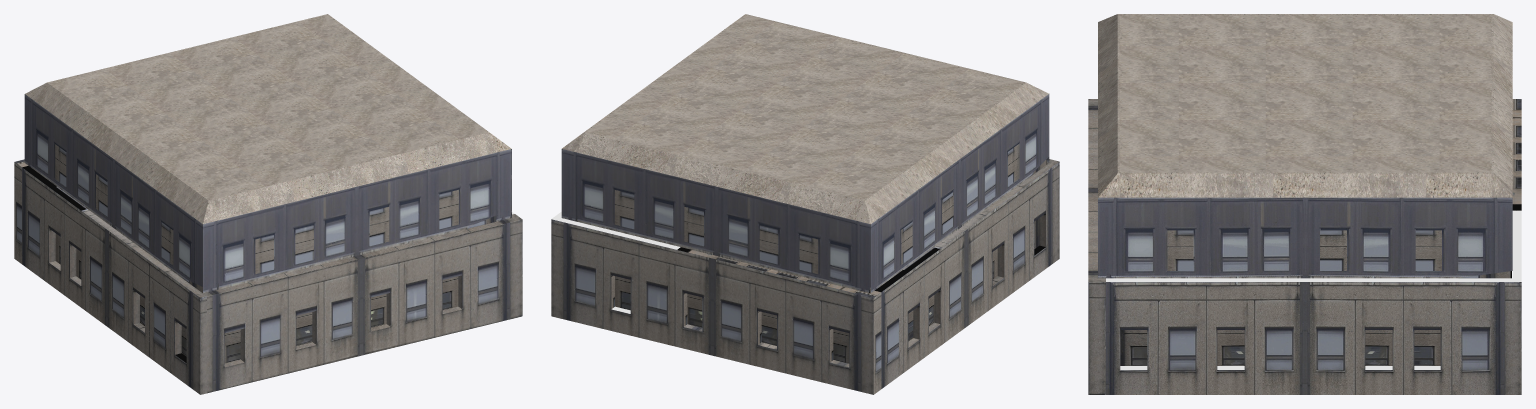
File: BagSS01top_100.fbx
The picture shows the model from 3 angles, left to right: view 1: azimuth 30°, elevation 25°; view 2: azimuth 150°, elevation 25°; view 3: azimuth 270°, elevation 25°; orthographic projection. The views are drawn at different scales.
Parts seen in each view (by area): view 1: topC100, topB100, topBox100; view 2: topC100, topB100, topBox100; view 3: topC100, topB100, topBox100.
Boxes of the visible parts, <box> form: topC100: <box>14,94,522,394</box>; topB100: <box>25,14,511,223</box>; topBox100: <box>55,144,496,363</box>; topC100: <box>551,94,1059,394</box>; topB100: <box>562,14,1048,224</box>; topBox100: <box>575,144,1046,363</box>; topC100: <box>1088,99,1521,394</box>; topB100: <box>1098,14,1512,197</box>; topBox100: <box>1120,230,1511,365</box>.
Bounding box in the file's own units: 17.55 × 9.37 × 17.54.
